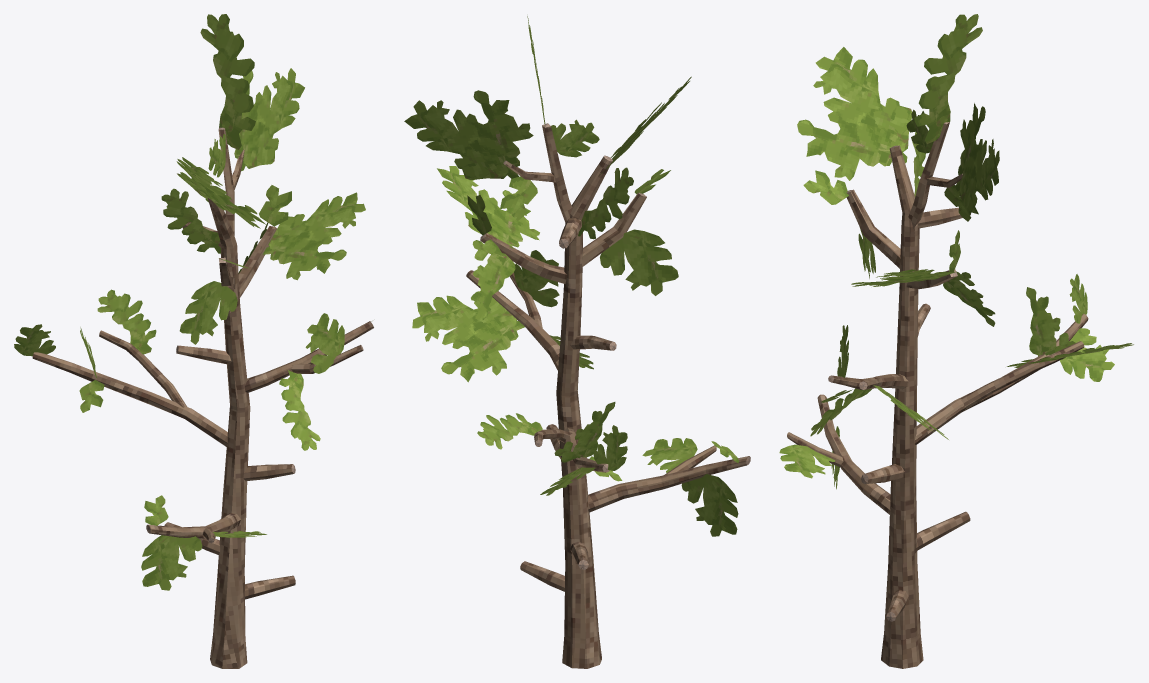
Rendered from Tree_ElmA.fbx.
3 renders of one model, left to right at view 1: azimuth 30°, elevation 25°; view 2: azimuth 150°, elevation 25°; view 3: azimuth 270°, elevation 25°, orthographic. The views are drawn at different scales.
Visible parts, largest first — view 1: TrunkMain, TreeLeaves_04, TreeLeaves_22, TreeLeaves_23, Elm_Branch_06, TreeLeaves_08, TreeLeaves_17, TreeLeaves_18, TreeLeaves_12, Elm_Branch_21, TreeLeaves_20, TreeLeaves_16 (+11 smaller); view 2: TrunkMain, TreeLeaves_23, TreeLeaves_11, TreeLeaves_17, Elm_Branch_22, TreeLeaves_04, TreeLeaves_08, TreeLeaves_05, Elm_Branch_21, TreeLeaves_18, TreeLeaves_19, Elm_Branch_24 (+13 smaller); view 3: TrunkMain, TreeLeaves_20, TreeLeaves_22, TreeLeaves_23, Elm_Branch_06, Elm_Branch_22, TreeLeaves_19, TreeLeaves_13, Elm_Branch_24, Elm_Branch_04, TreeLeaves_06, TreeLeaves_05 (+9 smaller).
Boxes of the visible parts, bbox=[...] form: TrunkMain: bbox=[207, 198, 250, 668]; TreeLeaves_04: bbox=[262, 192, 365, 280]; TreeLeaves_22: bbox=[200, 14, 255, 149]; TreeLeaves_23: bbox=[220, 68, 304, 171]; Elm_Branch_06: bbox=[32, 330, 227, 446]; TreeLeaves_08: bbox=[141, 535, 202, 590]; TreeLeaves_17: bbox=[179, 281, 237, 344]; TreeLeaves_18: bbox=[161, 188, 220, 253]; TreeLeaves_12: bbox=[97, 289, 156, 354]; Elm_Branch_21: bbox=[245, 321, 373, 392]; TreeLeaves_20: bbox=[176, 157, 266, 228]; TreeLeaves_16: bbox=[279, 370, 320, 450]; TrunkMain: bbox=[556, 155, 612, 668]; TreeLeaves_23: bbox=[404, 90, 533, 179]; TreeLeaves_11: bbox=[412, 295, 524, 382]; TreeLeaves_17: bbox=[600, 229, 678, 295]; Elm_Branch_22: bbox=[588, 445, 750, 512]; TreeLeaves_04: bbox=[437, 166, 539, 247]; TreeLeaves_08: bbox=[681, 474, 738, 536]; TreeLeaves_05: bbox=[471, 239, 515, 319]; Elm_Branch_21: bbox=[466, 270, 559, 370]; TreeLeaves_18: bbox=[578, 167, 633, 239]; TreeLeaves_19: bbox=[554, 402, 615, 462]; Elm_Branch_24: bbox=[582, 193, 646, 267]; TrunkMain: bbox=[881, 145, 923, 668]; TreeLeaves_20: bbox=[797, 47, 911, 180]; TreeLeaves_22: bbox=[914, 14, 982, 143]; TreeLeaves_23: bbox=[956, 103, 999, 215]; Elm_Branch_06: bbox=[914, 313, 1088, 444]; Elm_Branch_22: bbox=[787, 394, 890, 514]; TreeLeaves_19: bbox=[1026, 287, 1075, 359]; TreeLeaves_13: bbox=[1060, 328, 1114, 381]; Elm_Branch_24: bbox=[846, 189, 900, 268]; Elm_Branch_04: bbox=[908, 122, 949, 229]; TreeLeaves_06: bbox=[779, 444, 835, 478]; TreeLeaves_05: bbox=[943, 271, 995, 326].
Bounding box in the file's own units: 948 × 2014 × 985.
2 materials, 2 textured.
